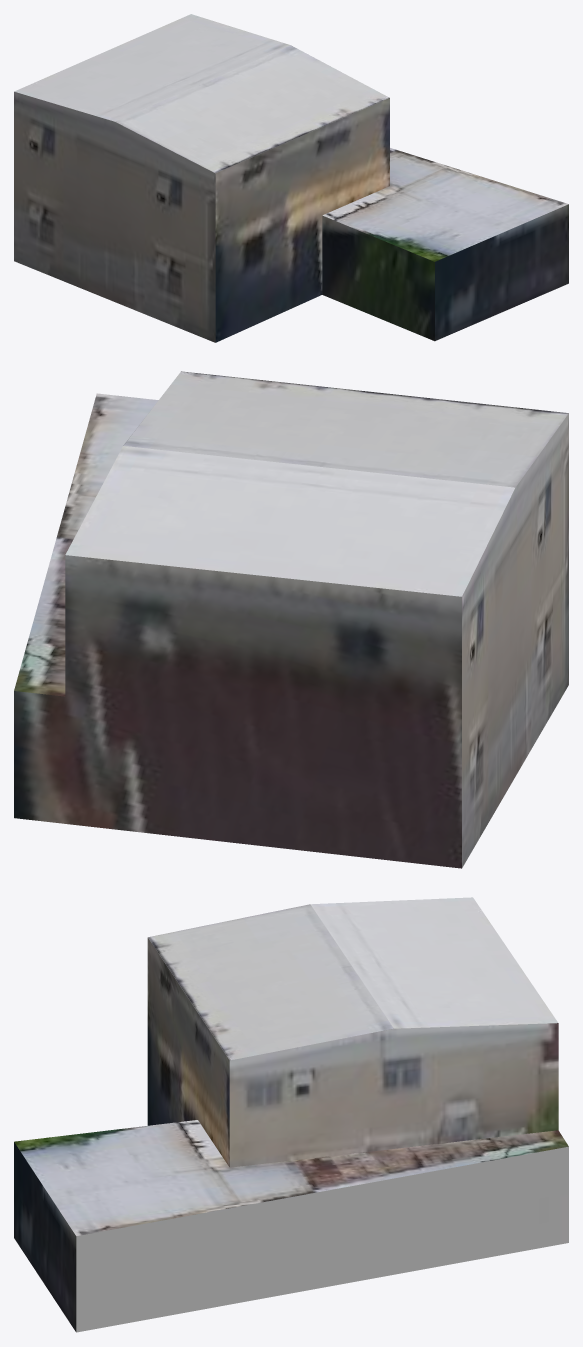
3 renders of one model, top to bottom at view 1: azimuth 30°, elevation 25°; view 2: azimuth 150°, elevation 25°; view 3: azimuth 270°, elevation 25°, orthographic. The views are drawn at different scales.
Visible parts, largest first — view 1: B292954046201062A0; view 2: B292954046201062A0; view 3: B292954046201062A0.
Boxes of the visible parts, <box> form: B292954046201062A0: <box>14,14,568,342</box>; B292954046201062A0: <box>14,371,568,868</box>; B292954046201062A0: <box>14,897,568,1332</box>.
Size of the model in its own units: 12.66 by 5.58 by 12.82.
1 material, 1 textured.
